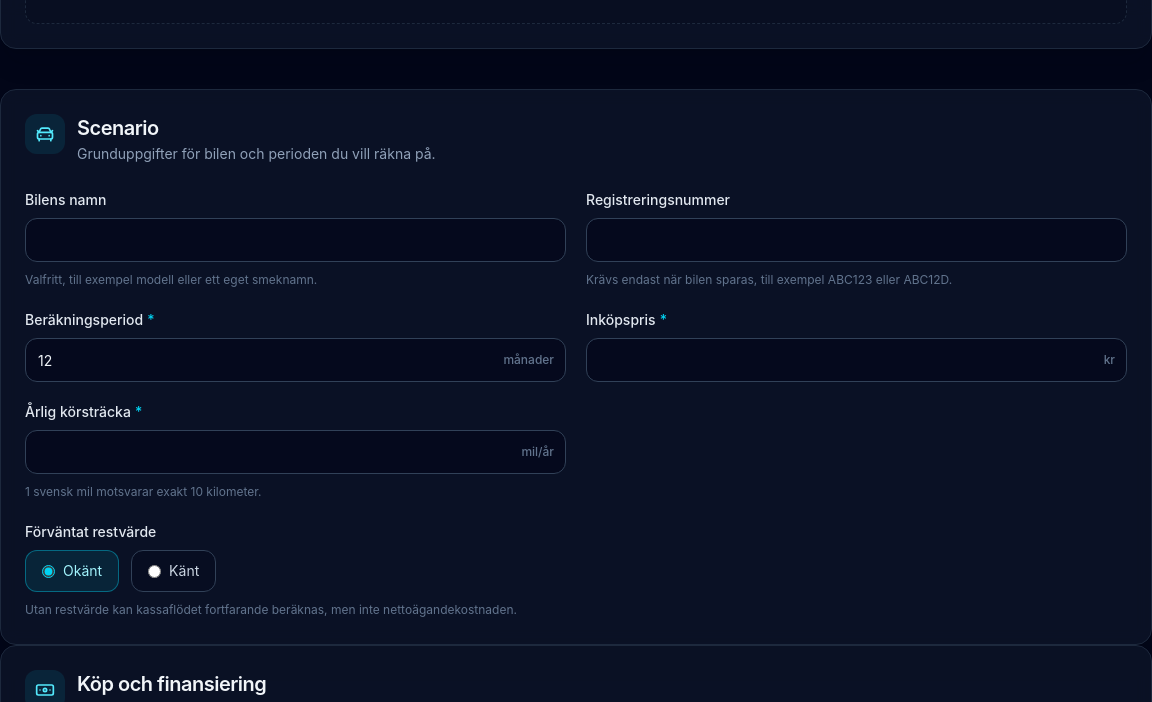
Scenario: ManualCalculatorPage › shows calculation progress without disabling form editing
(page scrolled)
In the field labelled "Inköpspris*": (856, 360) [586, 338, 1127, 382], type "20000"
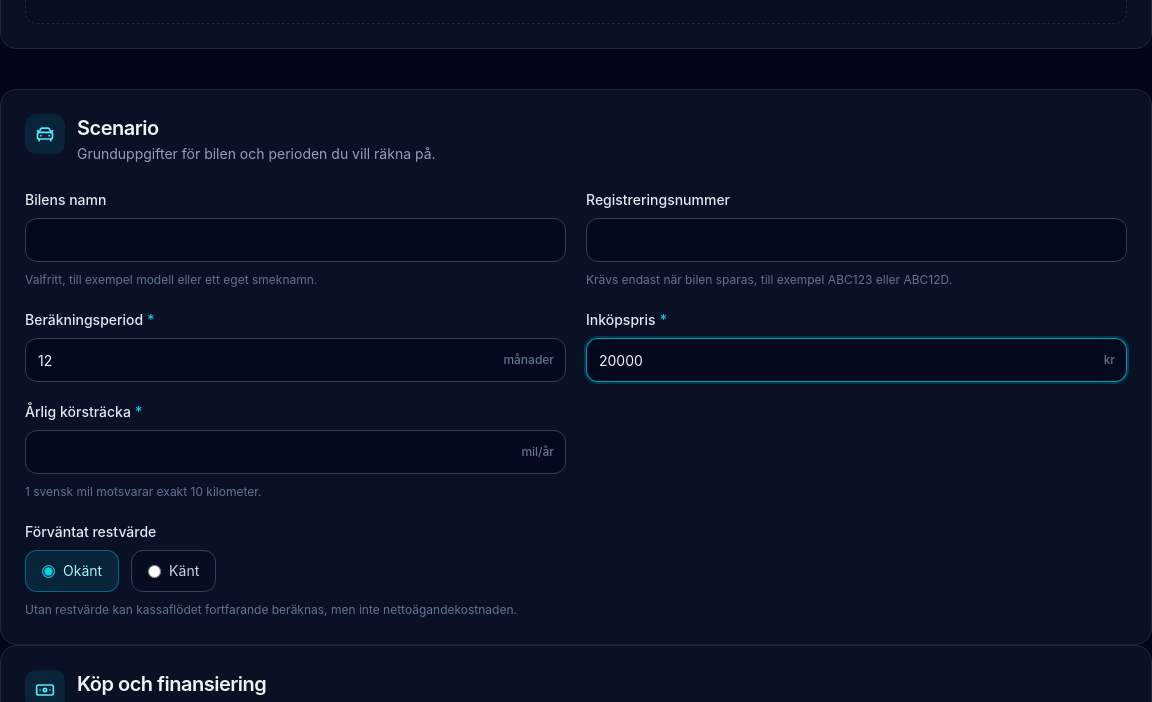
In the field labelled "Årlig körsträcka*": (296, 452) [25, 430, 566, 474], type "0"
(page scrolled)
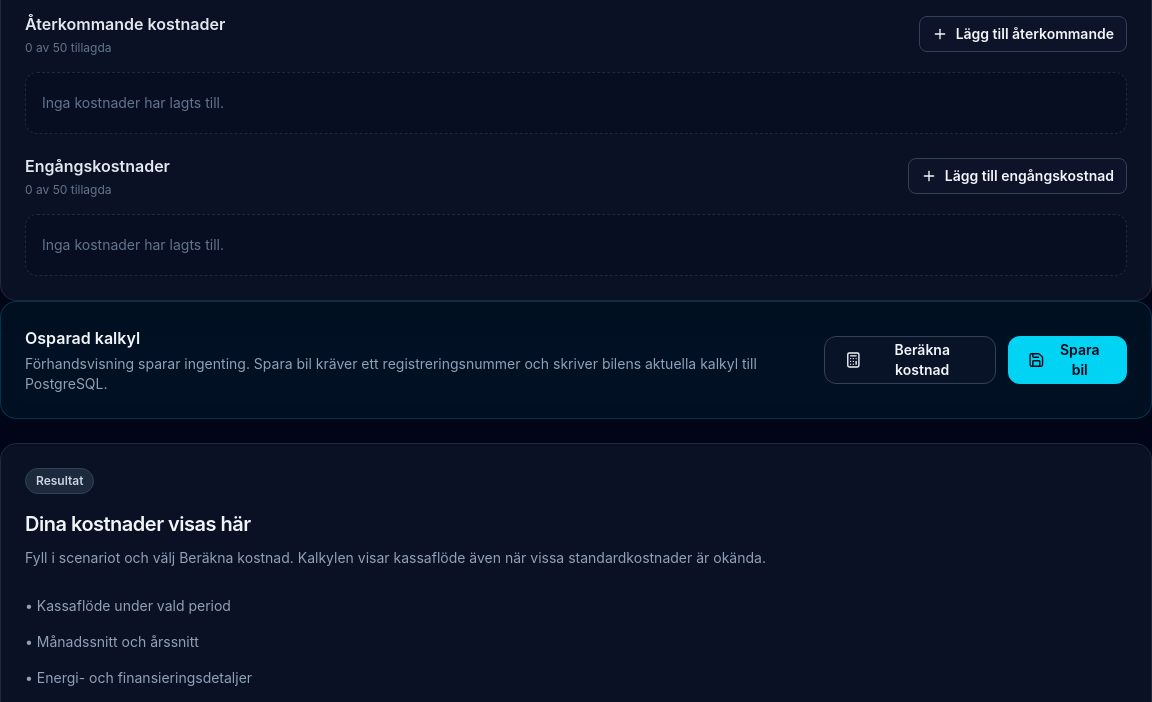
Click the button "Beräkna kostnad": (910, 360) [824, 336, 996, 384]
(page scrolled)
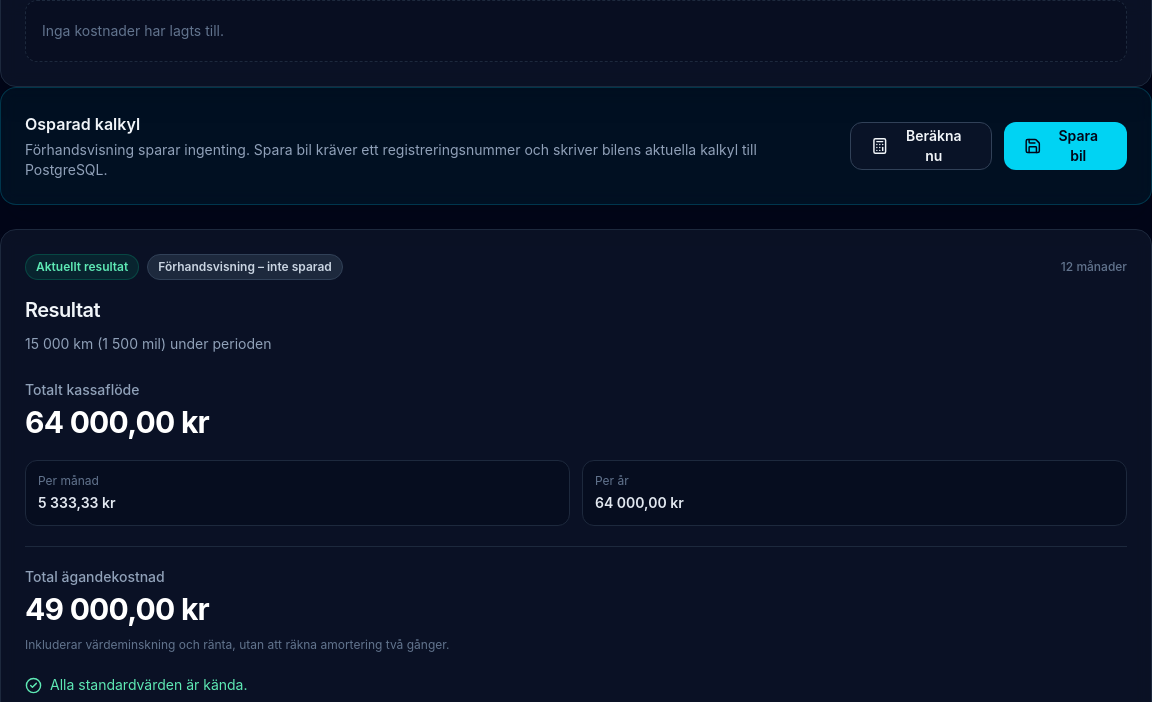
Expected: the button named "Beräknar…" is enabled, [850, 122, 992, 170]
Expected: the text "Aktuellt resultat" is shown, [25, 254, 139, 280]
